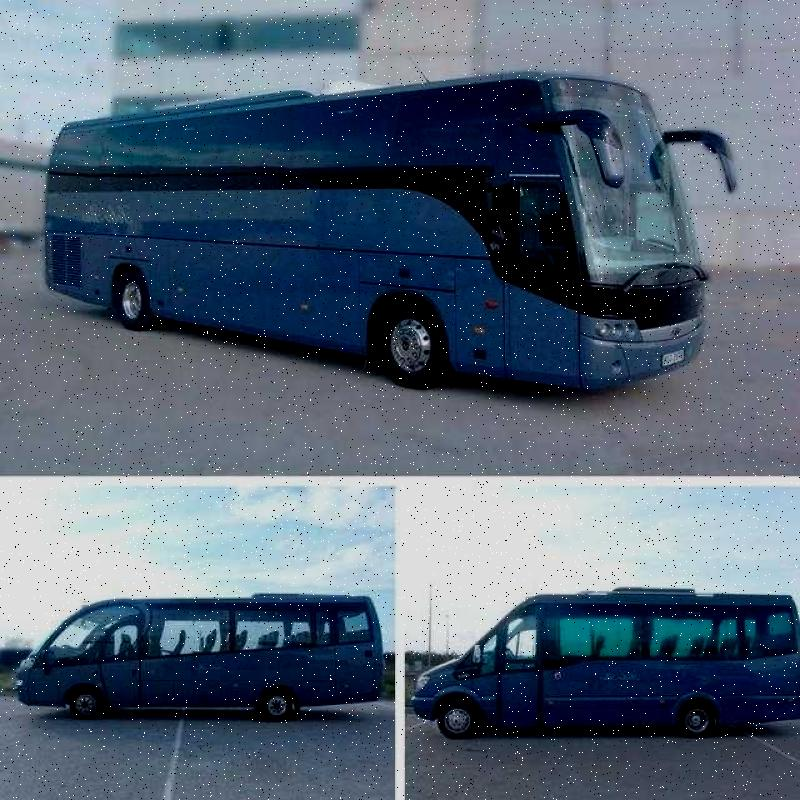bus: (34, 29, 724, 414), (0, 577, 375, 759), (414, 560, 774, 738)
